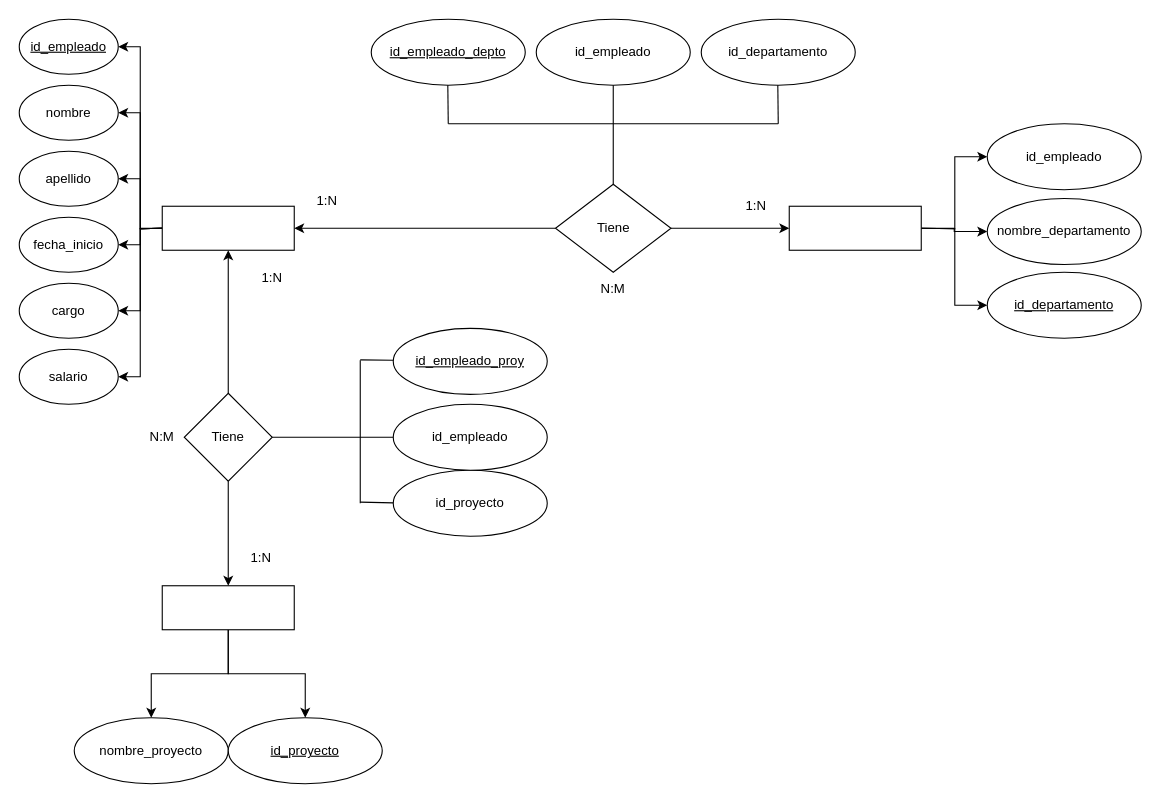
Some shapes in this 1161 by 803 pixel diagram are drawn without their labels. The shapes that lost their labels are listed below. From the top down, each one's centre as x and y in pixels, then its label:
(227,227): Empleados
(854,227): Departamentos
(227,607): Proyectos
